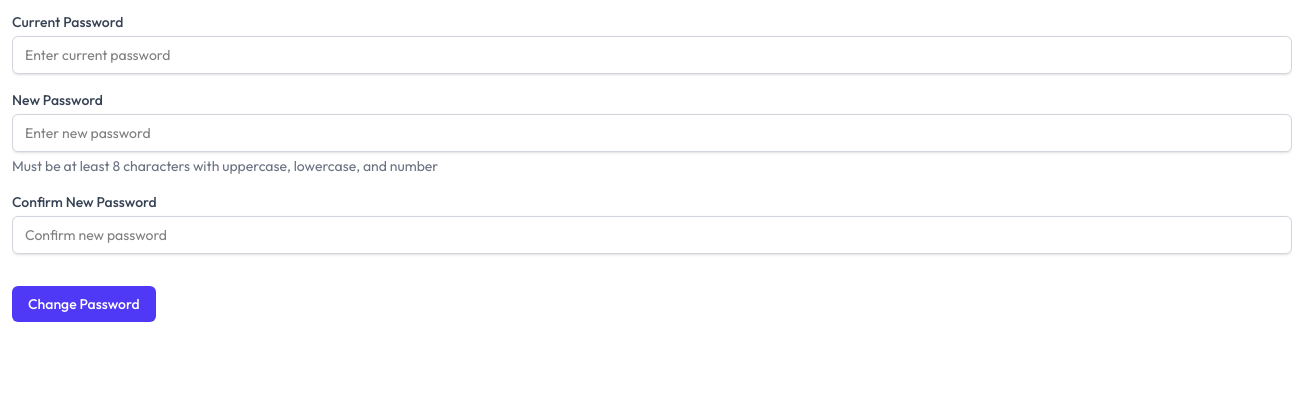
ChangePasswordForm › submits form with valid data
In the password field labelled "Current Password": coordinates (652, 55) [12,36,1292,74], type "OldPassword123"
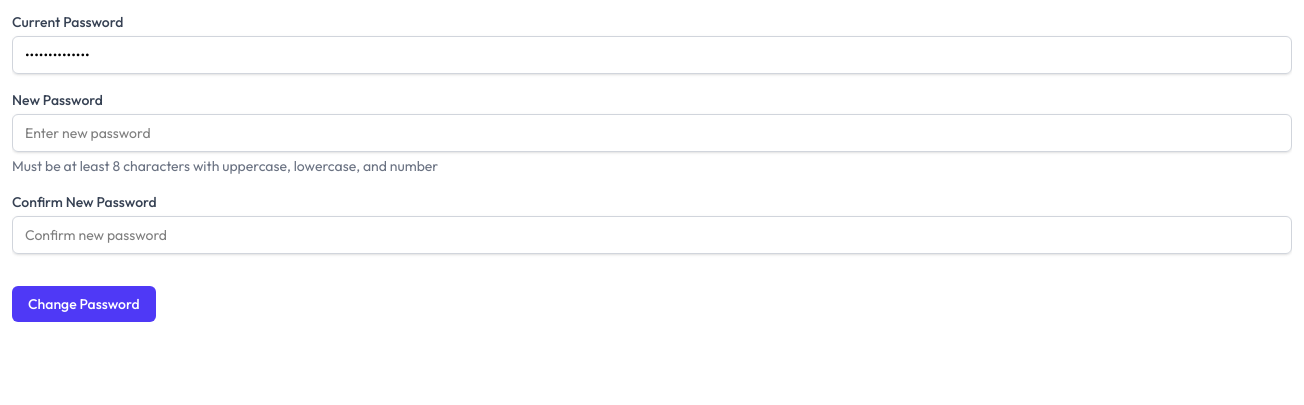
In the password field labelled "New Password": coordinates (652, 133) [12,114,1292,152], type "NewPassword123"
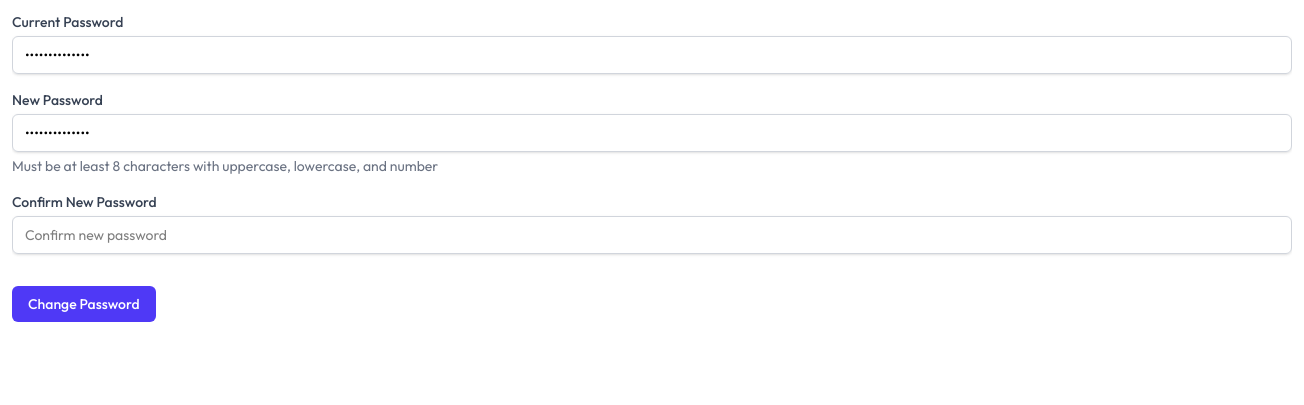
In the password field labelled "Confirm New Password": coordinates (652, 235) [12,216,1292,254], type "NewPassword123"
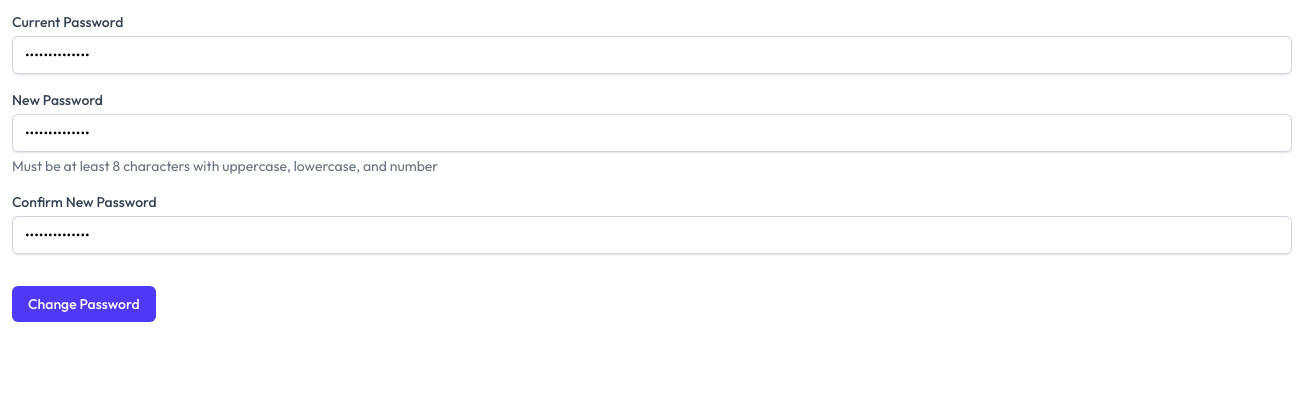
Click the button "Change Password": coordinates (84, 304) [12,286,156,322]
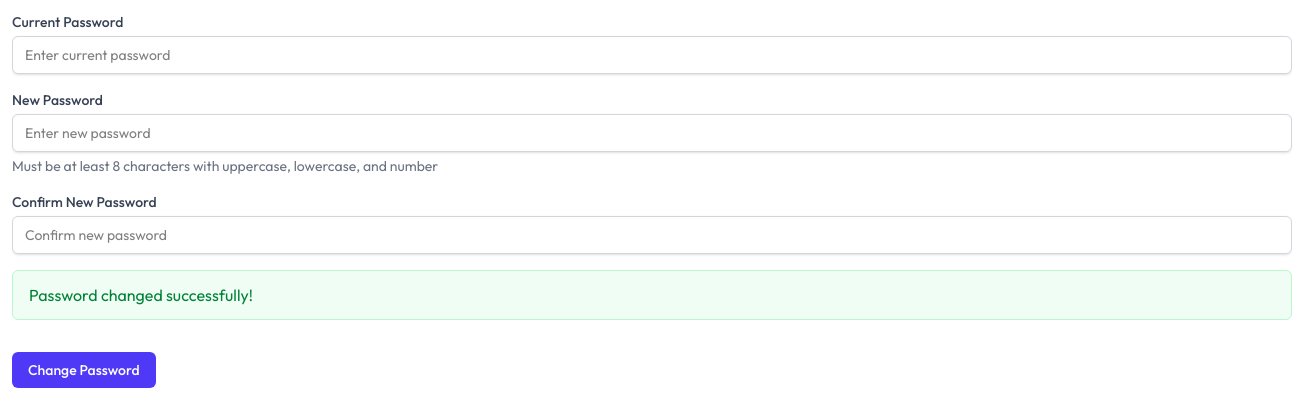
Check: the text "Password changed successfully!" is shown, box [12,270,1292,320]
